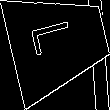L_E: (33, 21, 85, 64)
